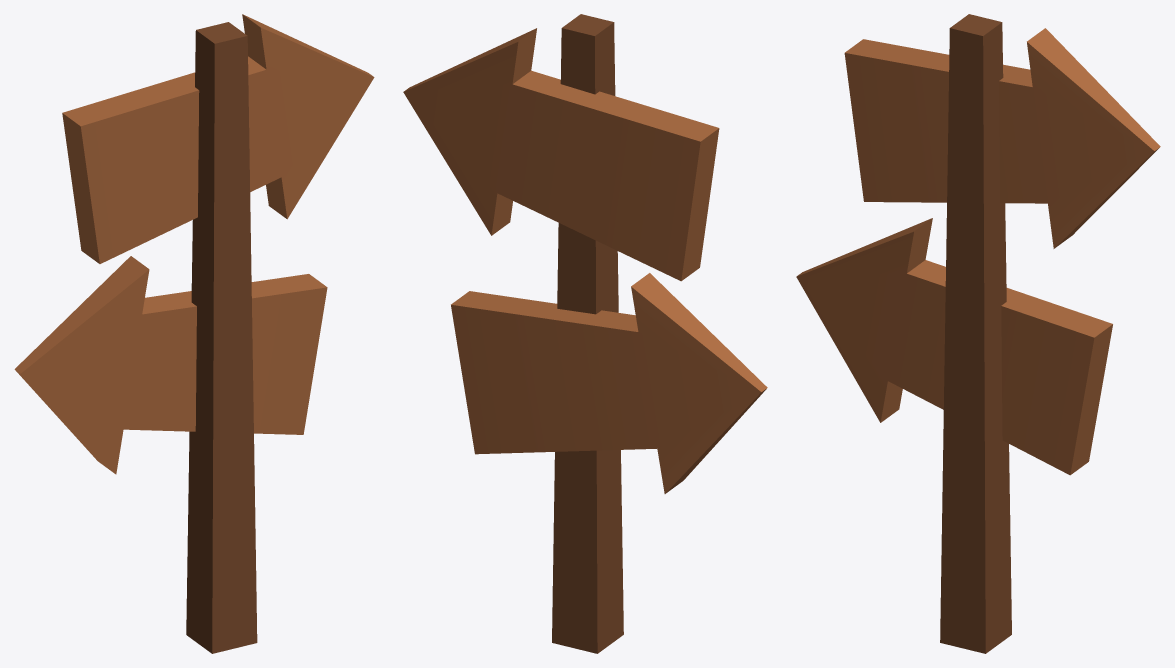
The model's file is arrows.glb.
3 views of the same model, side by side, from view 1: azimuth 30°, elevation 25°; view 2: azimuth 150°, elevation 25°; view 3: azimuth 330°, elevation 25° (orthographic).
Visible parts, largest first — view 1: arrows; view 2: arrows; view 3: arrows.
Boxes of the visible parts, x1=… form: arrows: x1=14, y1=14, x2=374, y2=653; arrows: x1=403, y1=14, x2=767, y2=653; arrows: x1=796, y1=14, x2=1160, y2=653.
Bounding box in the file's own units: 0.55 × 0.9 × 0.0998.
